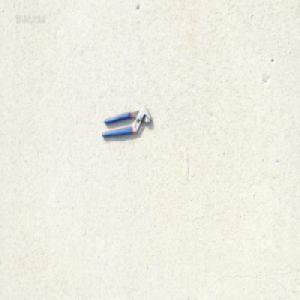Pliers: (101, 105, 153, 139)
